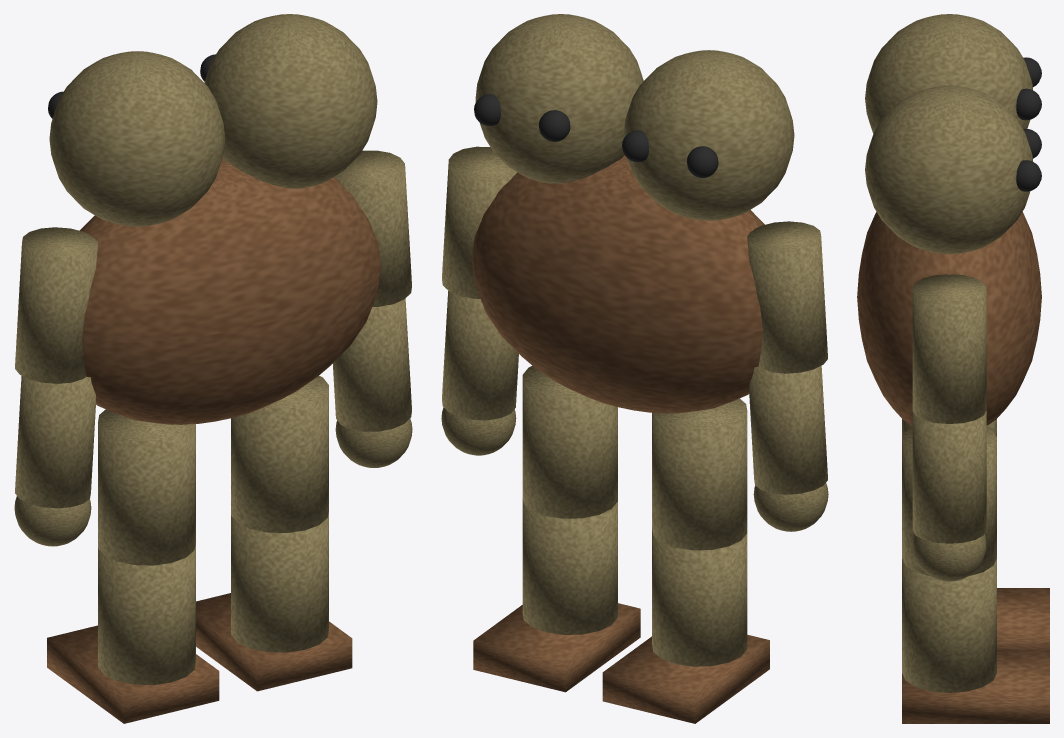
File: ettin.glb
3 renders of one model, left to right at view 1: azimuth 30°, elevation 25°; view 2: azimuth 150°, elevation 25°; view 3: azimuth 270°, elevation 25°, orthographic. The views are drawn at different scales.
Parts seen in each view (by area): view 1: Torso, Head, Head.001, ThighL, ThighR, ShinR, ShinL, UpperArmL, ForearmL, ForearmR, FootL, FootR (+3 smaller); view 2: Torso, Head, Head.001, ThighL, ThighR, ShinL, ShinR, UpperArmL, ForearmL, FootL, FootR, ForearmR (+7 smaller); view 3: Head.001, Torso, Head, ShinR, UpperArmR, ForearmR, FootR, FootL, ThighR, HandR, Eye.001, Eye.003.
Part boxes in pixels (<box>): Torso: <box>80,158,381,424</box>; Head: <box>49,51,225,226</box>; Head.001: <box>204,14,377,188</box>; ThighL: <box>98,409,195,565</box>; ThighR: <box>231,376,328,532</box>; ShinR: <box>231,512,328,652</box>; ShinL: <box>98,543,195,684</box>; UpperArmL: <box>15,227,97,383</box>; ForearmL: <box>15,376,95,508</box>; ForearmR: <box>332,298,411,431</box>; FootL: <box>47,625,219,723</box>; FootR: <box>196,593,352,691</box>; Torso: <box>471,155,764,413</box>; Head: <box>623,50,794,220</box>; Head.001: <box>475,14,643,183</box>; ThighL: <box>652,398,747,550</box>; ThighR: <box>522,365,617,518</box>; ShinL: <box>652,528,747,666</box>; ShinR: <box>522,498,617,634</box>; UpperArmL: <box>747,221,827,373</box>; ForearmL: <box>749,365,827,494</box>; FootL: <box>602,634,769,723</box>; FootR: <box>473,603,640,692</box>; ForearmR: <box>442,291,518,420</box>; Head.001: <box>865,85,1032,254</box>; Torso: <box>857,212,1041,425</box>; Head: <box>865,14,1032,133</box>; ShinR: <box>902,558,996,692</box>; UpperArmR: <box>912,274,986,423</box>; ForearmR: <box>912,411,986,543</box>; FootR: <box>902,650,1049,723</box>; FootL: <box>997,588,1049,650</box>; ThighR: <box>902,426,996,576</box>; HandR: <box>912,534,986,581</box>; Eye.001: <box>1016,88,1041,120</box>; Eye.003: <box>1016,160,1041,191</box>.
Size of the model in its own units: 0.6367 by 1 by 0.2852.
3 materials, 2 textured.
